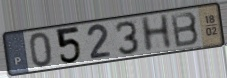0: (28, 31, 54, 69)
2: (85, 22, 115, 62)
3: (115, 19, 142, 56)
5: (54, 25, 84, 65)
B: (169, 11, 201, 50)
H: (139, 12, 175, 54)
